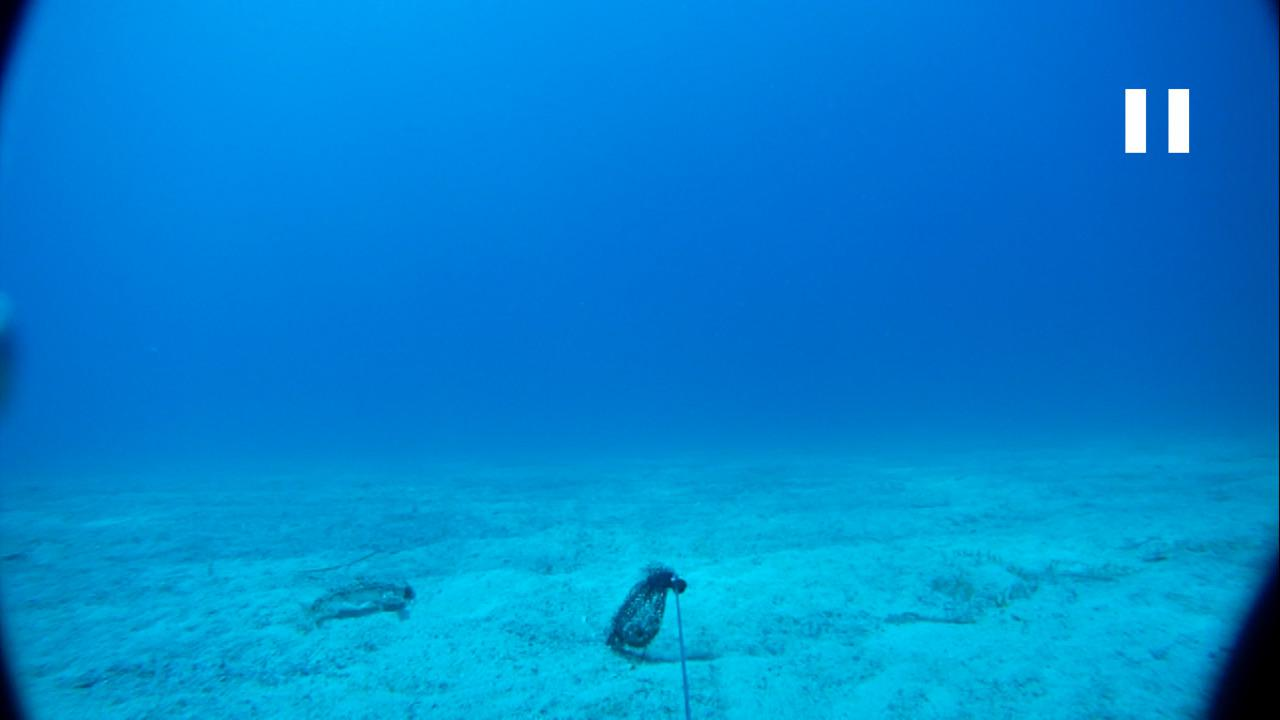dactylopterus: (294, 568, 418, 629)
